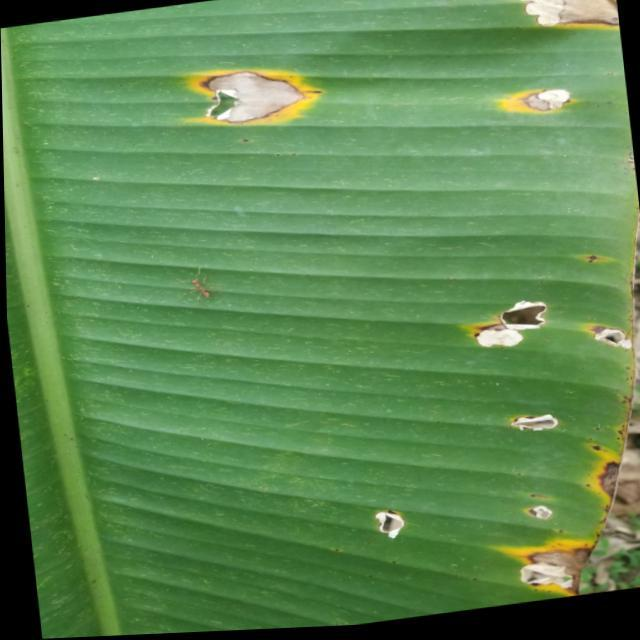Early_rust: (458, 244, 640, 606), (440, 0, 632, 139), (177, 28, 333, 155), (349, 499, 419, 568)
